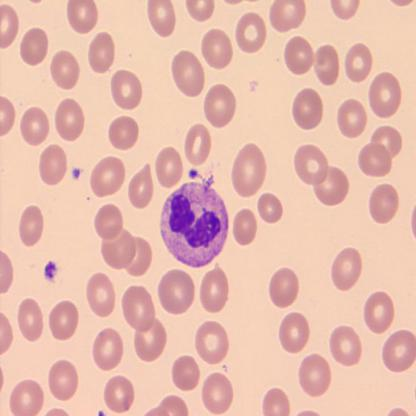Monocyte: (158, 177, 230, 270)
